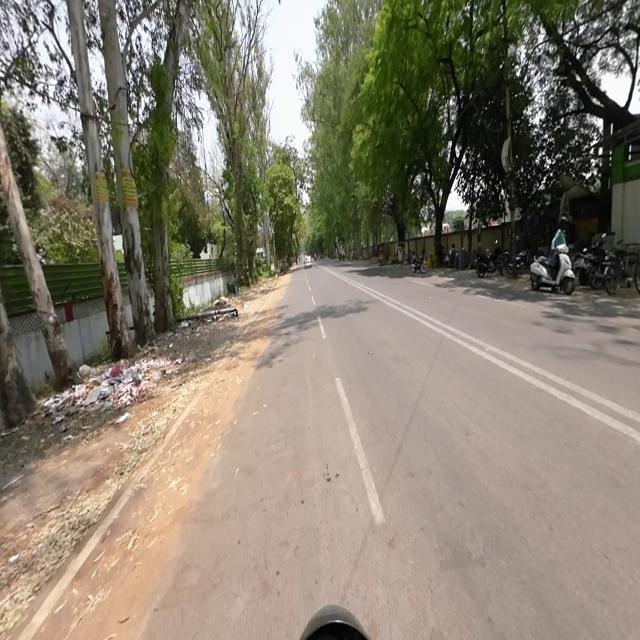Garbage: (42, 385, 158, 421), (79, 359, 185, 382)
